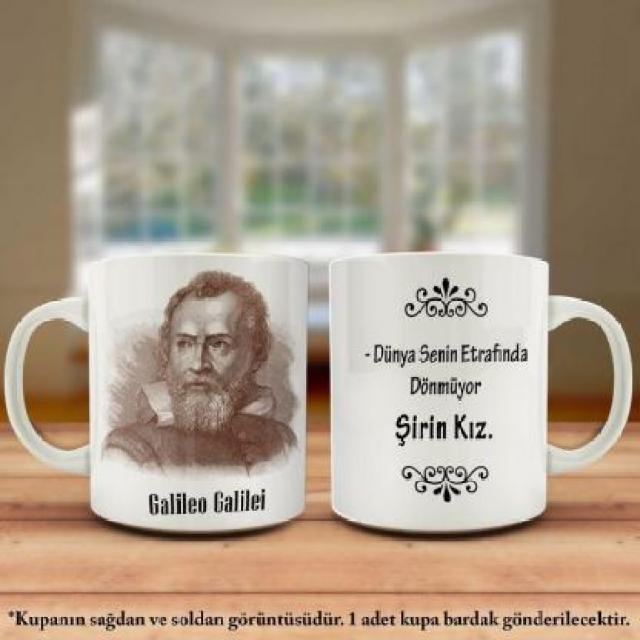taza: (2, 248, 320, 549), (329, 234, 636, 542)
